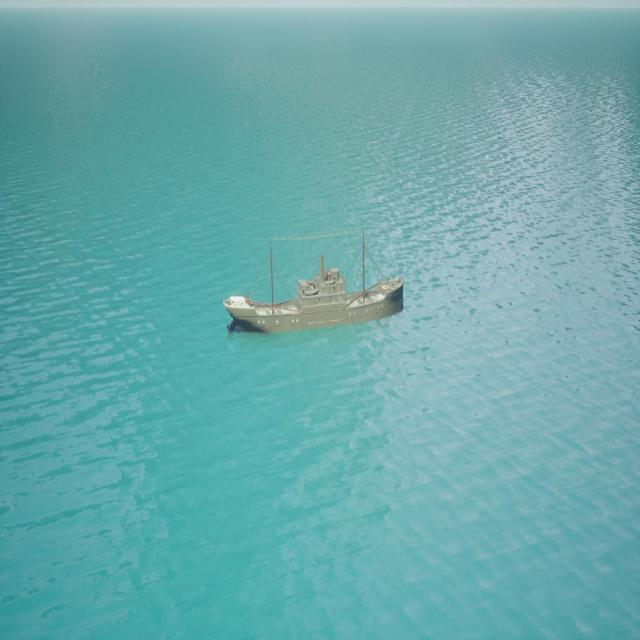fishing ship: (226, 233, 406, 340)
